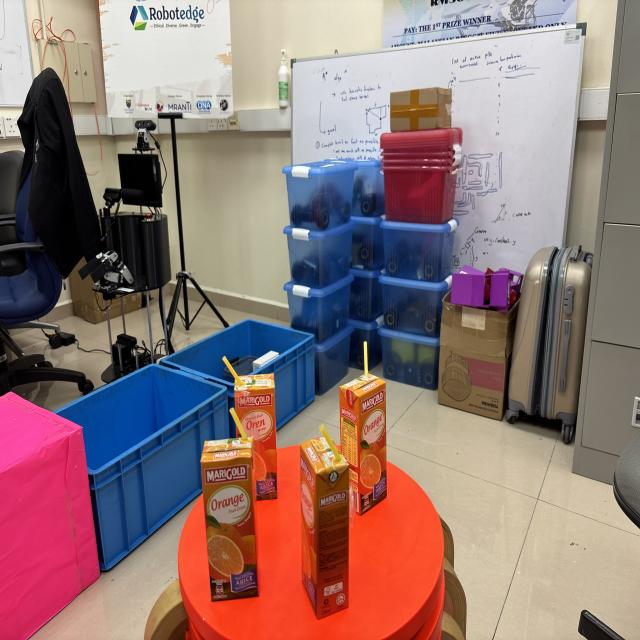drink_carton: (190, 402, 268, 613), (216, 345, 287, 508), (297, 422, 354, 625), (335, 336, 392, 525)
